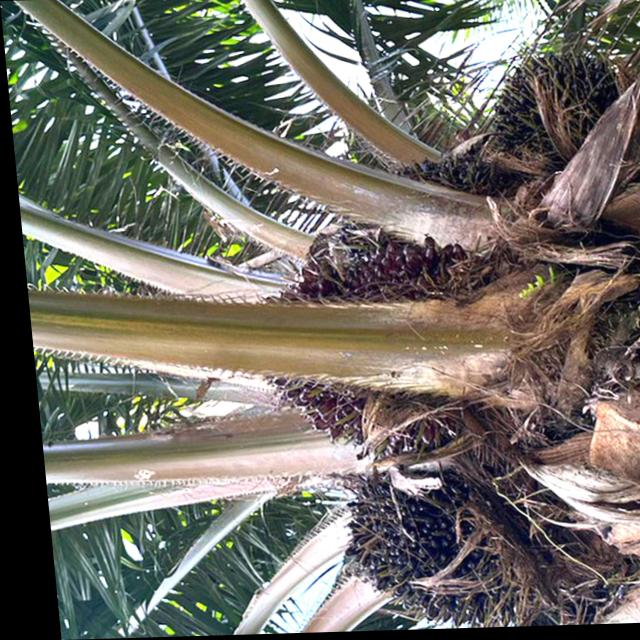ripe: (218, 222, 502, 464)
